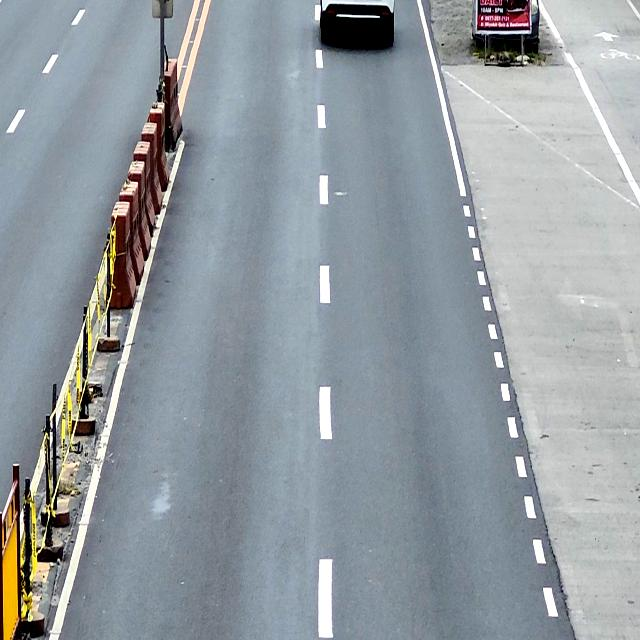Car: (318, 0, 396, 45)
